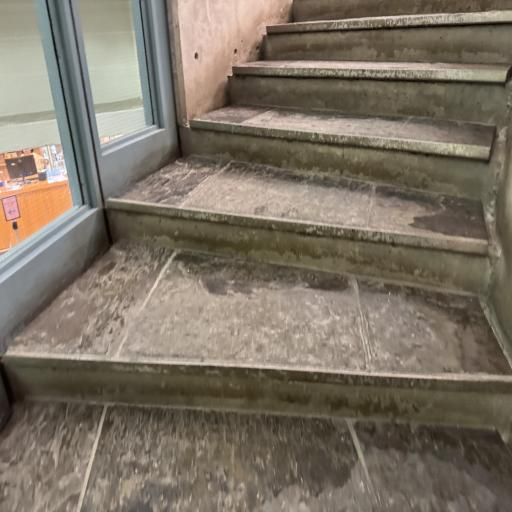Stairs: (5, 0, 512, 431), (4, 242, 512, 426), (107, 156, 489, 292), (229, 60, 510, 126), (190, 105, 495, 165), (265, 10, 512, 63), (293, 0, 510, 22)
